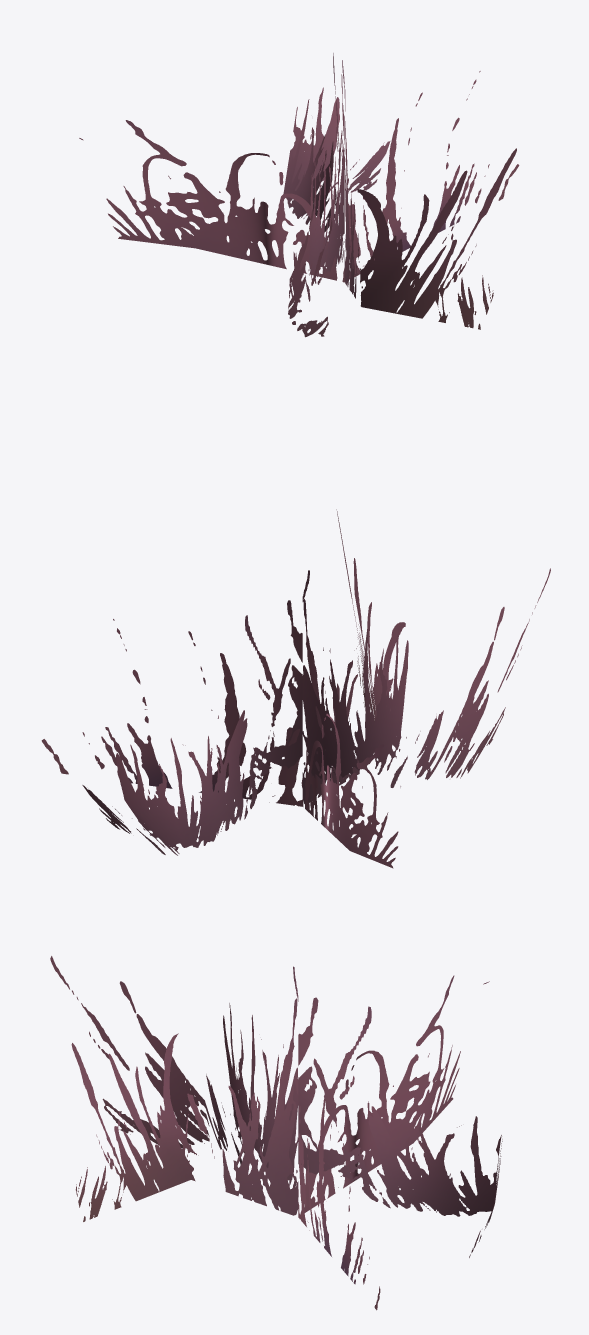
File: grass1.fbx
3 views of the same model, one above another, from view 1: azimuth 30°, elevation 25°; view 2: azimuth 150°, elevation 25°; view 3: azimuth 270°, elevation 25° (orthographic). The views are drawn at different scales.
Visible parts, largest first — view 1: SimplegrassTextures; view 2: SimplegrassTextures; view 3: SimplegrassTextures.
Boxes of the visible parts, bbox=[...] form: SimplegrassTextures: bbox=[79, 53, 519, 337]; SimplegrassTextures: bbox=[41, 509, 550, 868]; SimplegrassTextures: bbox=[50, 956, 502, 1310].
Size of the model in its own units: 25.29 by 15.79 by 24.65.
1 material, 1 textured.
